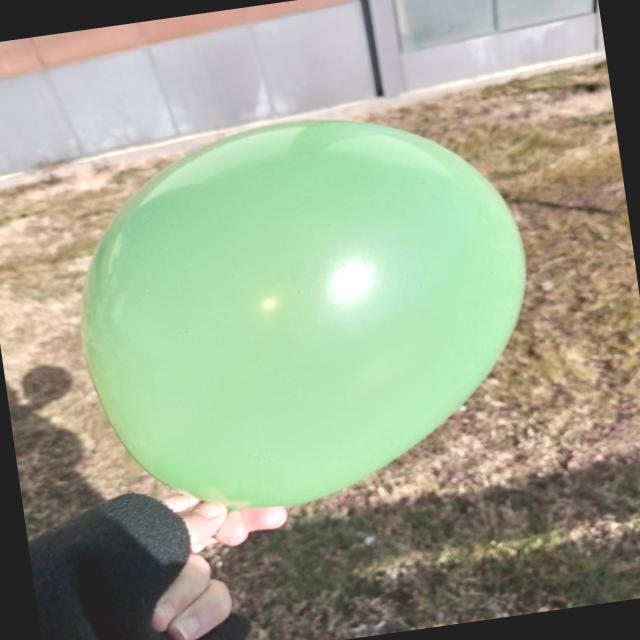balloon: (82, 121, 525, 508), (286, 252, 288, 254)
